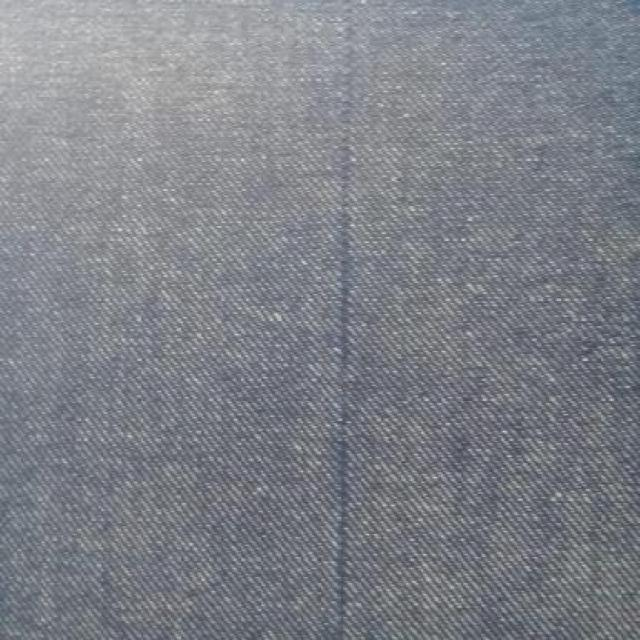pulled_or_thick_thread: (320, 137, 357, 639), (340, 21, 357, 123)
